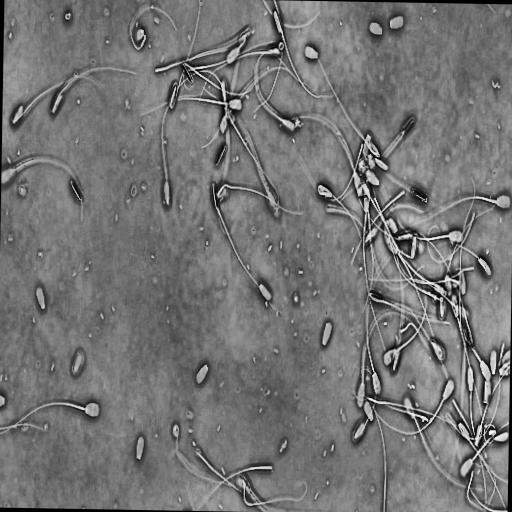coiled-tail: (318, 185, 363, 247), (430, 337, 446, 362)
folded-tail: (316, 56, 379, 157), (275, 11, 331, 98), (15, 77, 102, 122), (161, 95, 197, 202), (52, 67, 135, 111), (475, 366, 510, 445), (217, 184, 302, 214), (353, 369, 376, 439)
loose-head: (67, 348, 86, 383), (32, 278, 48, 318), (302, 39, 323, 68), (255, 281, 276, 309), (387, 12, 408, 34), (320, 318, 333, 350), (361, 166, 381, 186), (194, 362, 209, 388), (135, 433, 147, 463), (488, 345, 498, 380), (366, 18, 384, 37), (362, 398, 375, 424), (360, 132, 372, 159), (456, 268, 467, 297), (492, 430, 508, 447)
loose-tail: (348, 188, 407, 266), (350, 393, 388, 512), (193, 463, 274, 511), (194, 447, 262, 504), (253, 0, 285, 115), (423, 208, 477, 267), (313, 140, 363, 203), (153, 45, 238, 74), (397, 320, 445, 370), (260, 0, 322, 31), (465, 467, 490, 512)
normal: (385, 239, 450, 380), (402, 395, 487, 493), (313, 50, 381, 159), (356, 308, 427, 409), (465, 363, 507, 511), (449, 292, 486, 453), (272, 9, 335, 101), (361, 180, 391, 373), (9, 74, 107, 131), (158, 87, 202, 209), (371, 374, 457, 436), (50, 63, 140, 119), (0, 396, 105, 439), (383, 270, 427, 365), (407, 191, 512, 228), (253, 49, 297, 135), (214, 179, 310, 217), (316, 182, 365, 250), (474, 363, 510, 447), (131, 94, 244, 119), (391, 210, 464, 246), (349, 365, 379, 442), (365, 281, 382, 396)
